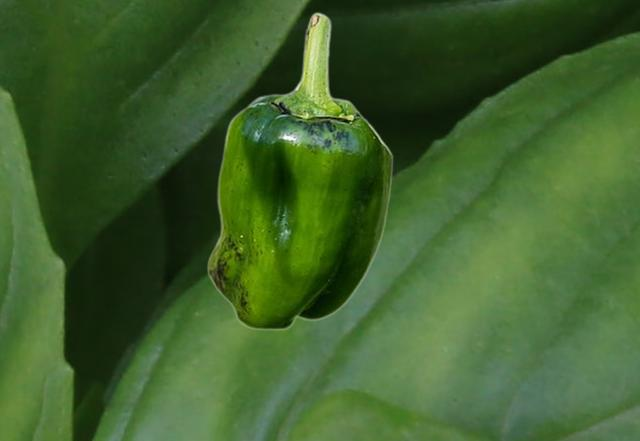bell_pepper: (206, 11, 392, 330)
